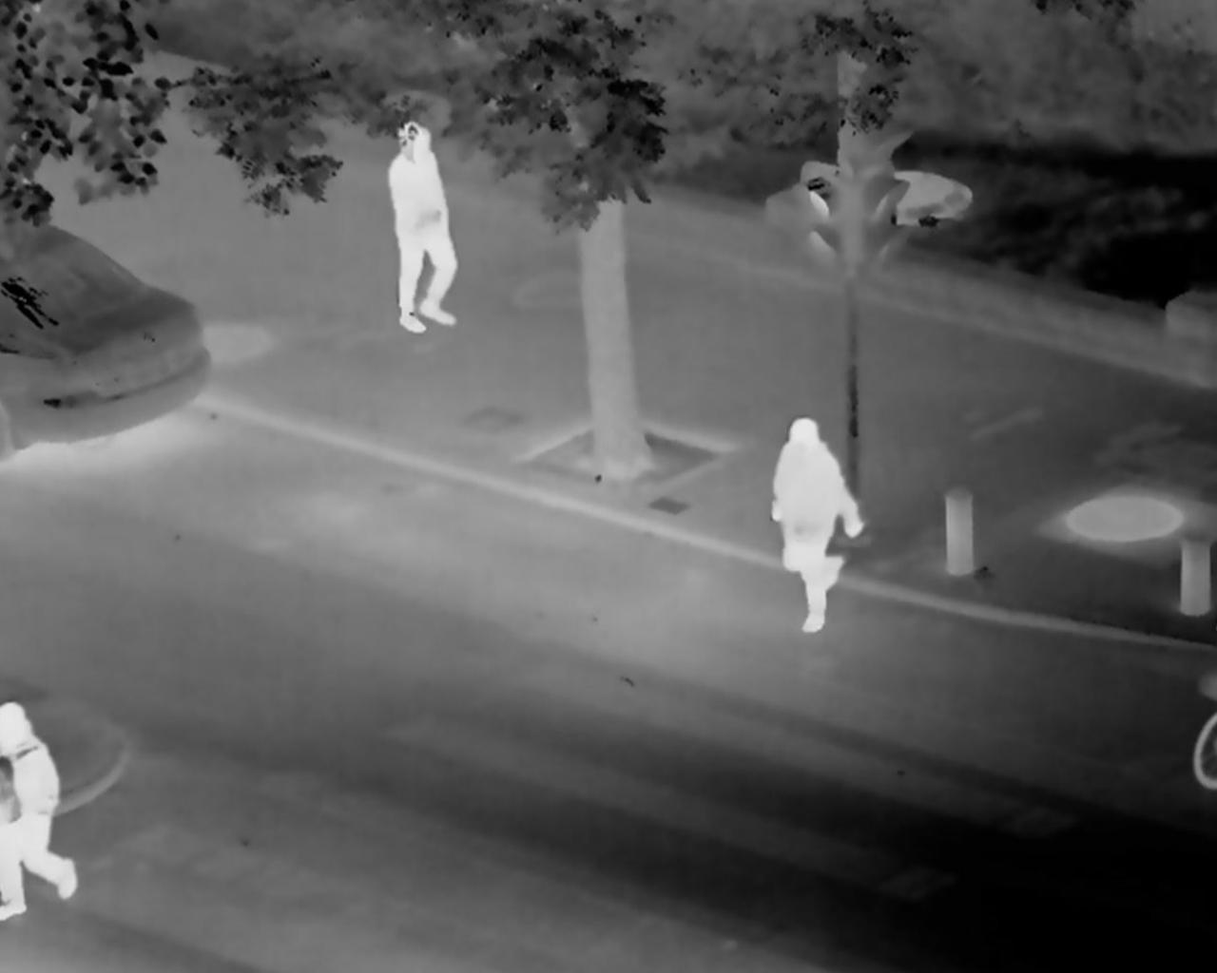person: (757, 403, 858, 624), (368, 127, 465, 338), (5, 699, 87, 920)
